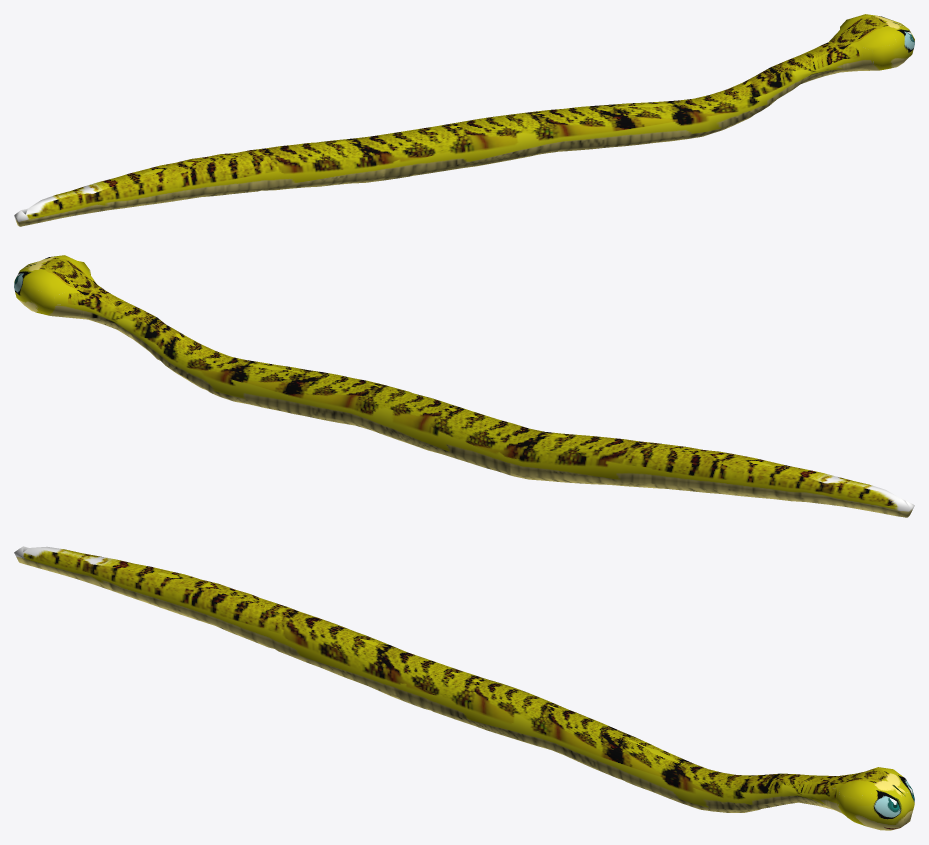
Rendered from snake_aug_0.obj.
3 views of the same model, one above another, from view 1: azimuth 30°, elevation 25°; view 2: azimuth 150°, elevation 25°; view 3: azimuth 330°, elevation 25° (orthographic). The views are drawn at different scales.
Bounding box in the file's own units: 98.48 × 8.33 × 11.74.
1 material, 1 textured.
